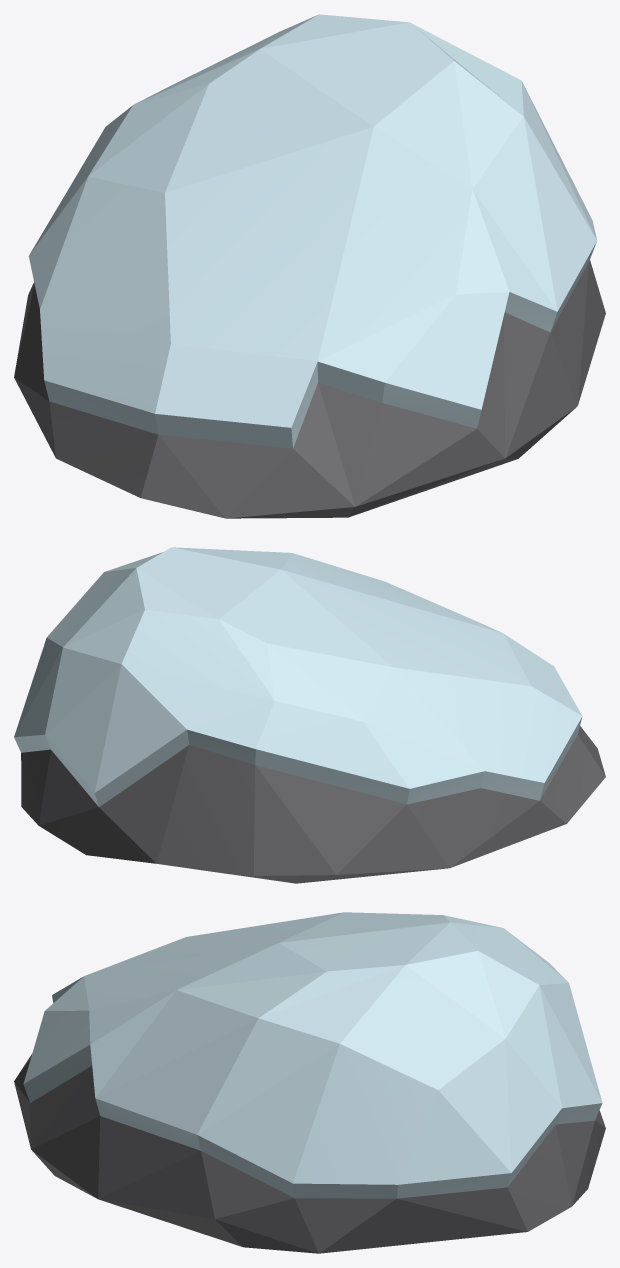
Rendered from Roca03.glb.
The picture shows the model from 3 angles, top to bottom: view 1: azimuth 30°, elevation 25°; view 2: azimuth 150°, elevation 25°; view 3: azimuth 270°, elevation 25°; orthographic projection. The views are drawn at different scales.
Visible parts, largest first — view 1: SM_Env_Rock_02_Snow; view 2: SM_Env_Rock_02_Snow; view 3: SM_Env_Rock_02_Snow.
Boxes of the visible parts, box(x1,y1,x2,y2) form: SM_Env_Rock_02_Snow: box(14, 14, 605, 518); SM_Env_Rock_02_Snow: box(14, 547, 605, 883); SM_Env_Rock_02_Snow: box(14, 912, 605, 1253).
Bounding box in the file's own units: 1.5 × 0.7641 × 1.51.
Materials: 1 (1 with a texture image).
